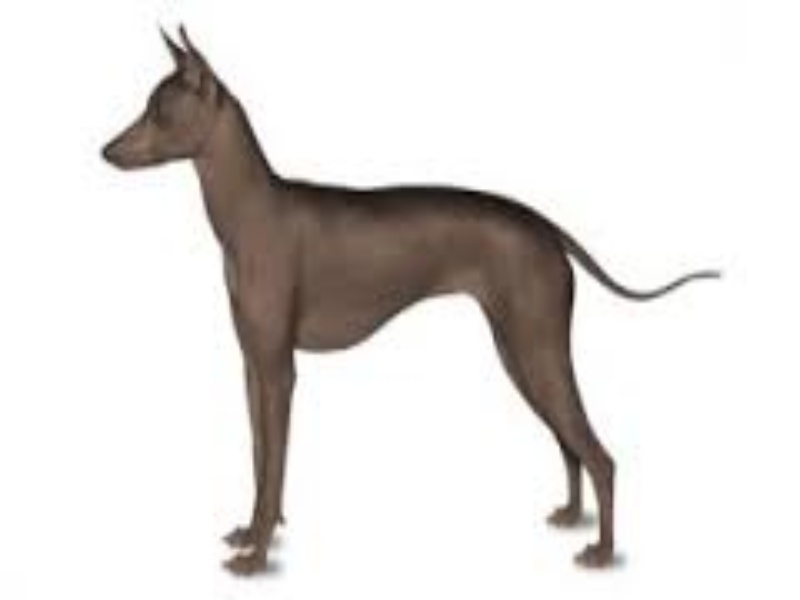dog: (96, 20, 723, 579)
